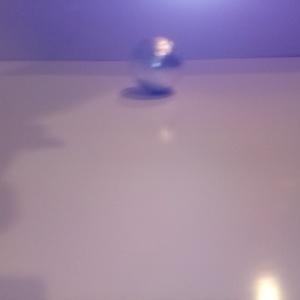alive_ball: (132, 37, 184, 91)
